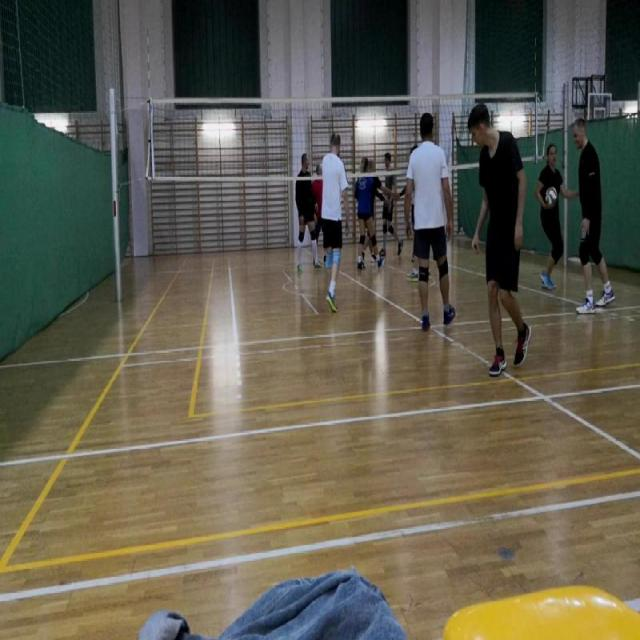volleyball: (545, 186, 557, 205)
